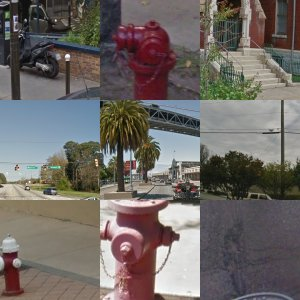公車: (123, 220, 194, 281)
棕櫚樹: (99, 113, 160, 200)
汽車: (101, 48, 122, 62)
消防栓: (229, 114, 266, 191), (37, 236, 86, 289), (48, 115, 87, 180)
煙囪: (19, 38, 36, 61)
紅綠燈: (220, 203, 242, 238)
